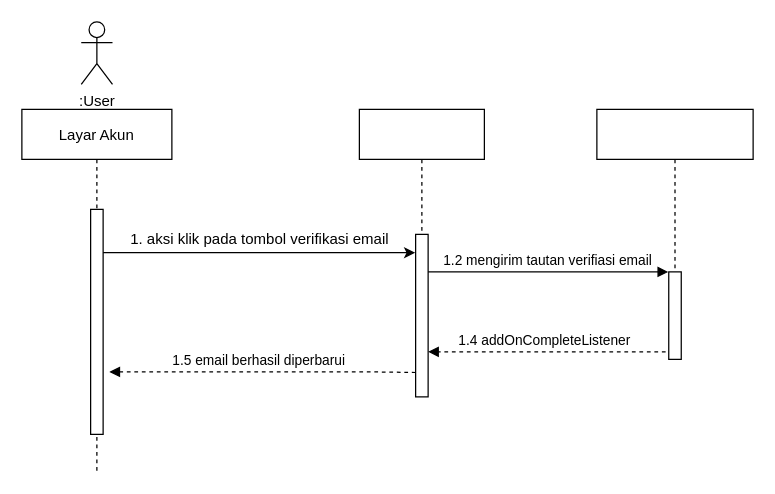
Image size: 775x494. Some labels were removed from this diagram. The shapes that lost their labels are listed below. From the top down, each one's box as (x1, y1, x2, y2) in pixels, then its label:
(358, 108, 484, 397): authUser
(596, 108, 753, 359): sendEmailVerification
